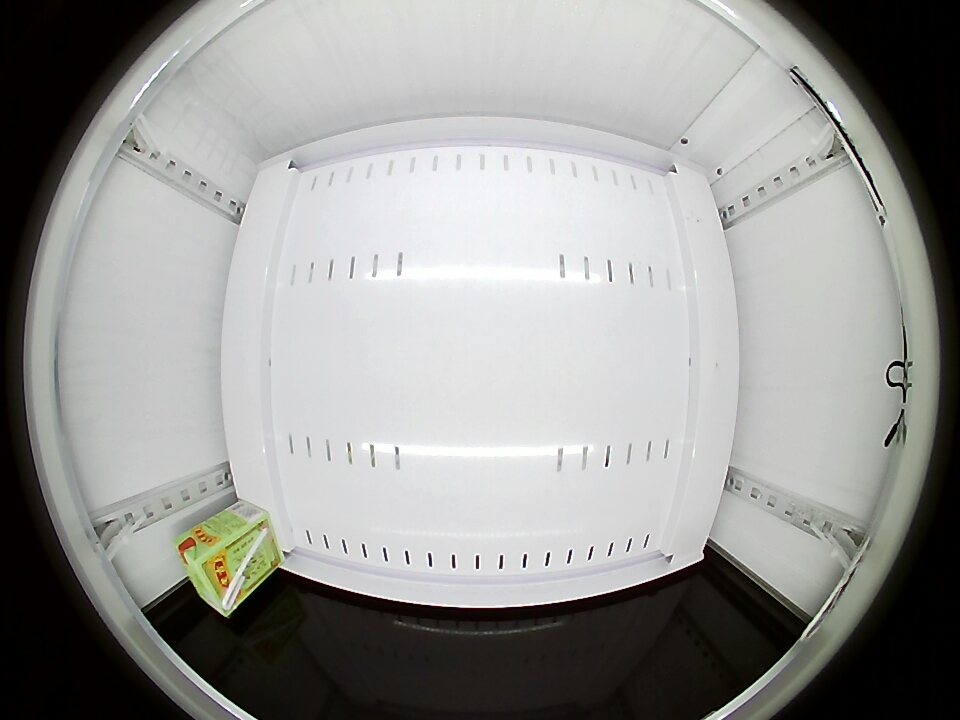wanglaoji: (176, 523, 247, 617)
